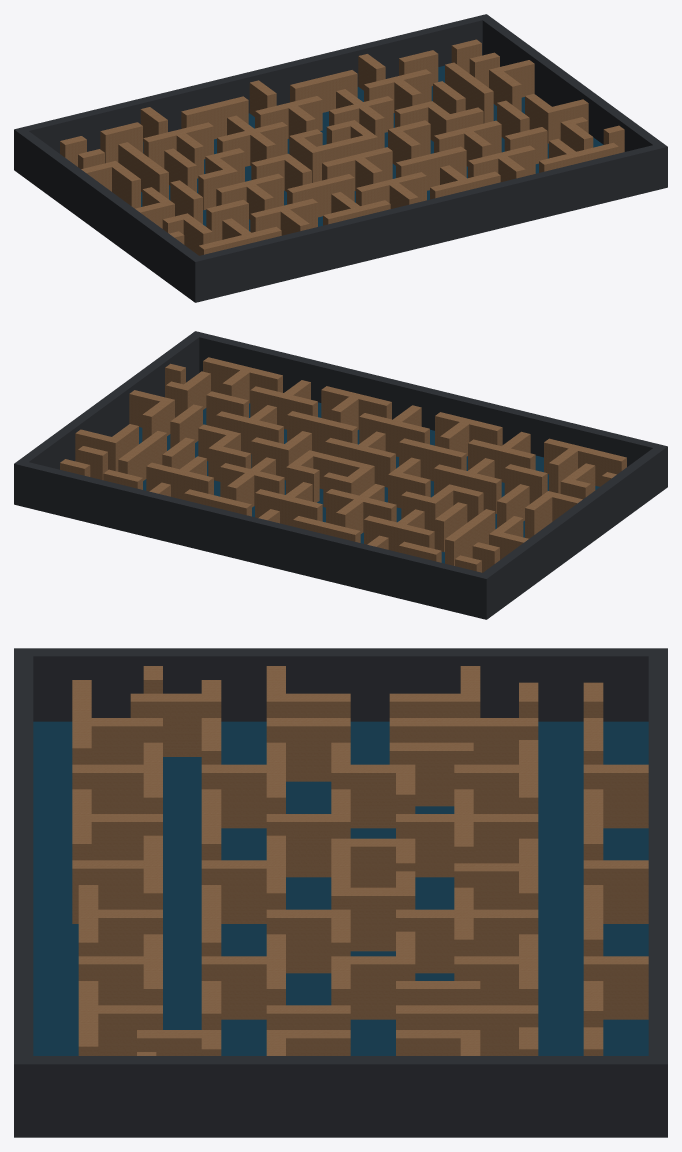
The model's file is MAPA2_FINAL.obj.
3 views of the same model, one above another, from view 1: azimuth 30°, elevation 25°; view 2: azimuth 150°, elevation 25°; view 3: azimuth 270°, elevation 25° (orthographic). The views are drawn at different scales.
Parts seen in each view (by area): view 1: Cube.005, Cube, Cube.001, Cube.002, Cube.003, Plane, Cube.004; view 2: Cube.005, Cube.001, Cube, Cube.002, Cube.003, Plane; view 3: Cube.005, Plane, Cube.003, Cube.002, Cube, Cube.001, Cube.004.
Boxes of the visible parts, bbox=[...] form: Cube.005: bbox=[78, 39, 624, 255]; Cube: bbox=[190, 143, 667, 302]; Cube.001: bbox=[14, 14, 491, 173]; Cube.002: bbox=[19, 131, 198, 298]; Cube.003: bbox=[482, 18, 662, 151]; Plane: bbox=[141, 65, 603, 231]; Cube.004: bbox=[60, 136, 86, 166]; Cube.005: bbox=[60, 357, 626, 572]; Cube.001: bbox=[14, 460, 491, 619]; Cube: bbox=[190, 331, 667, 490]; Cube.002: bbox=[483, 448, 662, 615]; Cube.003: bbox=[19, 335, 199, 469]; Plane: bbox=[139, 402, 599, 563]; Cube.005: bbox=[72, 666, 648, 1055]; Plane: bbox=[33, 721, 648, 1055]; Cube.003: bbox=[33, 1056, 648, 1137]; Cube.002: bbox=[33, 648, 648, 721]; Cube: bbox=[14, 648, 33, 1137]; Cube.001: bbox=[648, 648, 667, 1137]; Cube.004: bbox=[583, 682, 603, 717].
Size of the model in its own units: 152 by 12.54 by 101.
3 materials, 3 textured.
